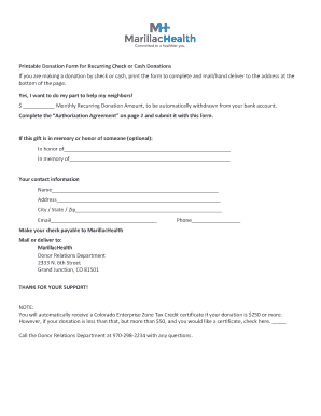textline: (63, 142, 234, 154), (73, 204, 224, 217), (50, 184, 222, 195), (55, 195, 222, 206), (68, 154, 233, 165), (48, 214, 161, 225), (191, 216, 242, 225), (22, 99, 56, 111)
